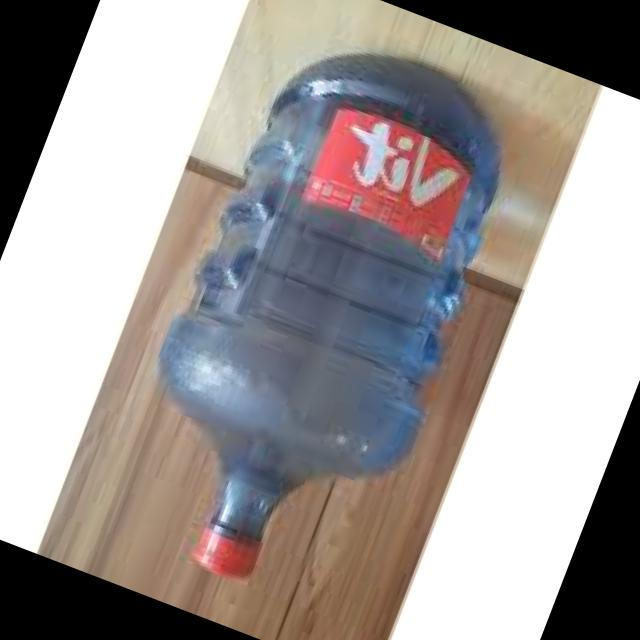Galon: (87, 12, 544, 628)
